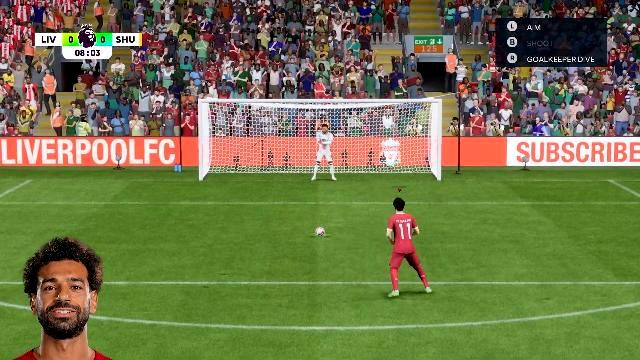bottom-left: (210, 143, 288, 181)
bottom-right: (359, 142, 433, 182)
center-down: (289, 142, 359, 182)
center-up: (289, 106, 359, 142)
circle: (309, 231, 331, 234)
football: (313, 224, 325, 234)
goalkeeper: (300, 126, 336, 182)
player: (381, 195, 434, 300)
top-left: (210, 106, 288, 142)
top-right: (359, 107, 433, 141)
